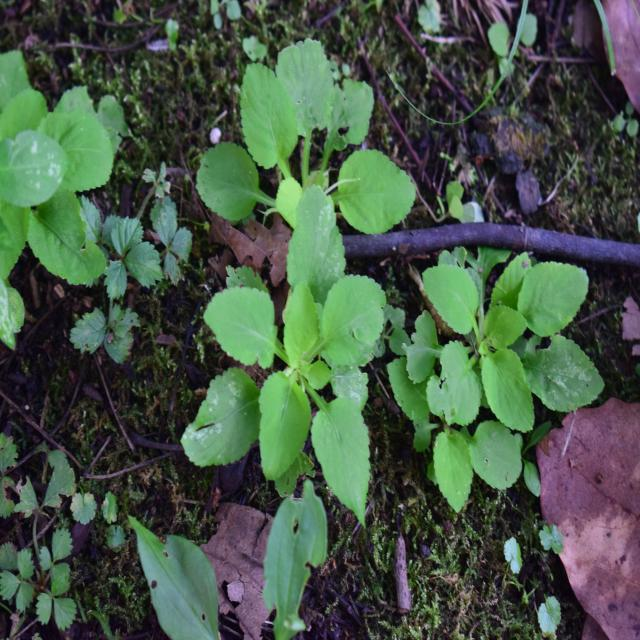Viola: (181, 241, 414, 487), (398, 230, 592, 503)
